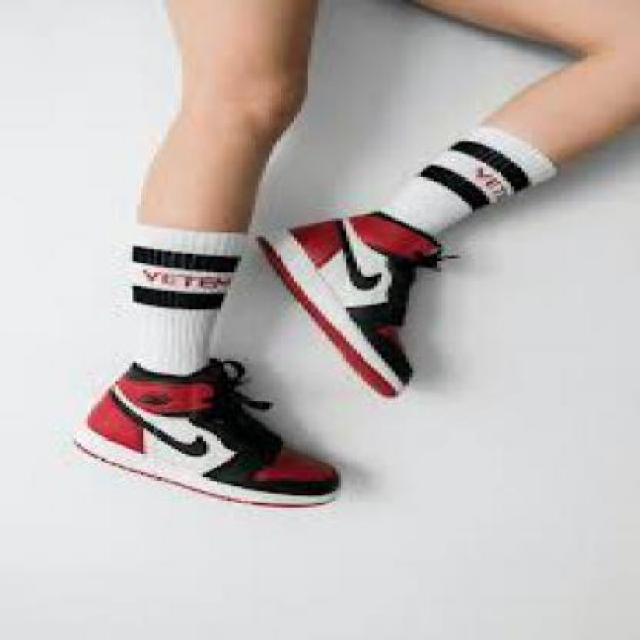Nike: (105, 386, 206, 459), (328, 216, 381, 292)
